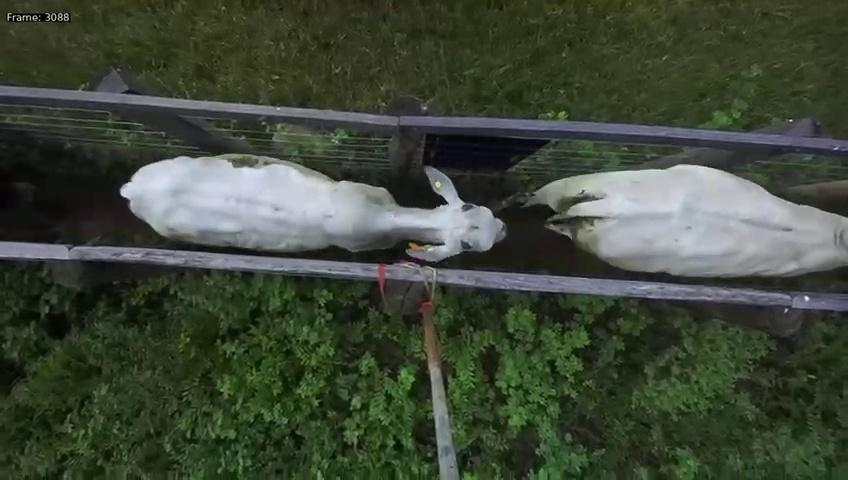cattle: (117, 147, 508, 266)
